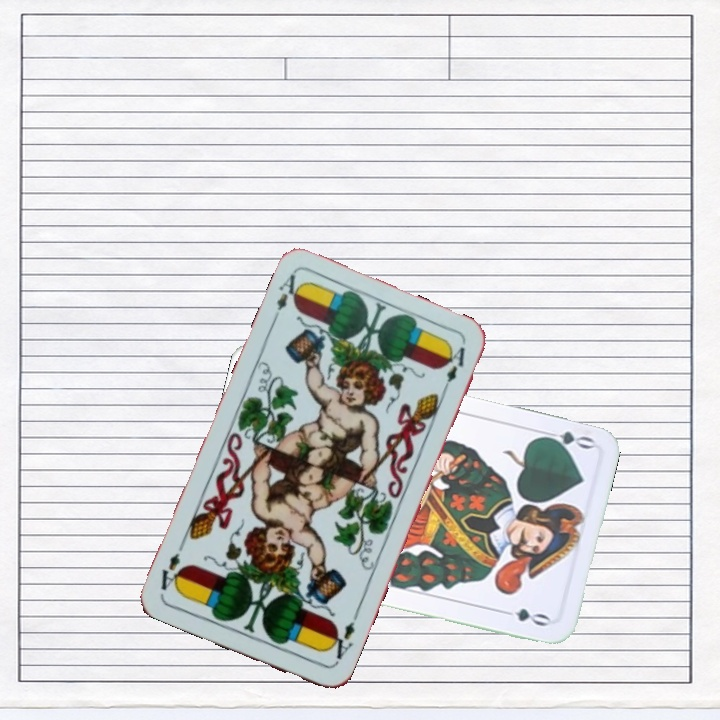EA: (268, 269, 306, 326), (323, 617, 358, 667)
GO: (536, 426, 596, 453)
